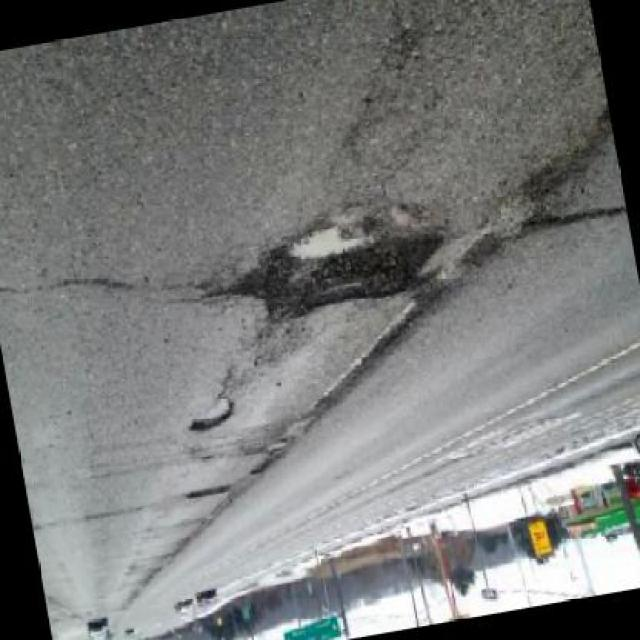pothole: (225, 205, 457, 333), (179, 394, 238, 441), (182, 485, 232, 504)
